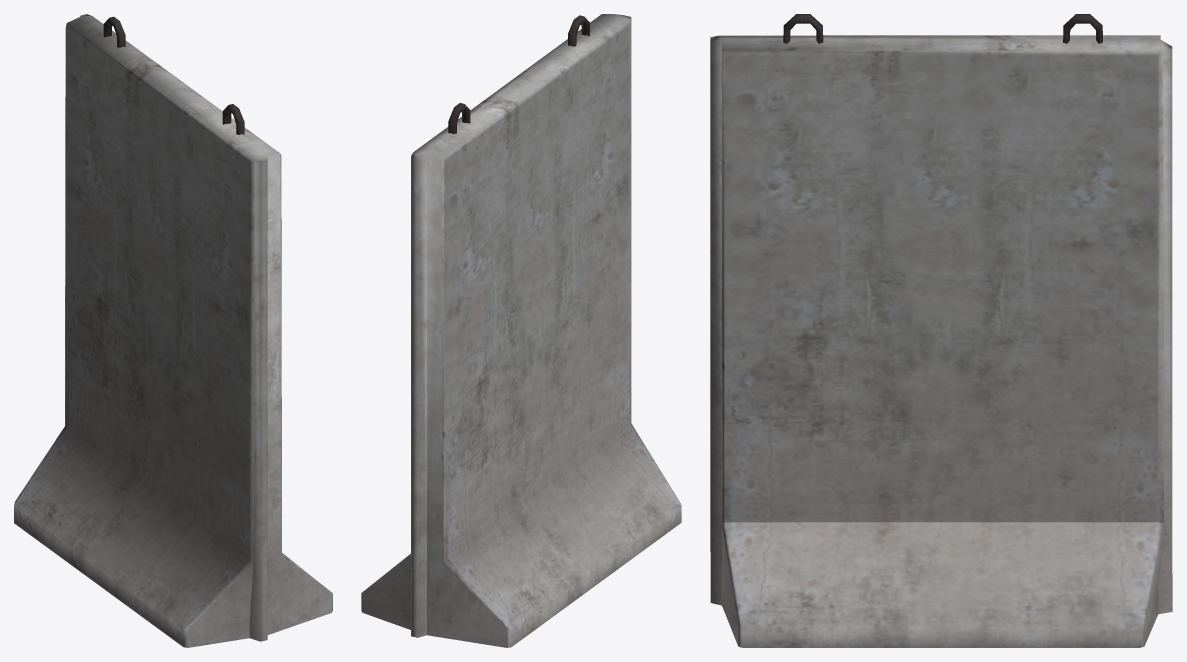
Rendered from ConcreteBarrier_B_A.fbx.
3 views of the same model, side by side, from view 1: azimuth 30°, elevation 25°; view 2: azimuth 150°, elevation 25°; view 3: azimuth 270°, elevation 25° (orthographic). The views are drawn at different scales.
Parts seen in each view (by area): view 1: ConcreteBarrier_B_A; view 2: ConcreteBarrier_B_A; view 3: ConcreteBarrier_B_A.
Boxes of the visible parts, x1,y1,x2,y2 form: ConcreteBarrier_B_A: (14,14,332,647); ConcreteBarrier_B_A: (361,14,681,647); ConcreteBarrier_B_A: (710,14,1172,647).
Bounding box in the file's own units: 89.55 × 288 × 204.
